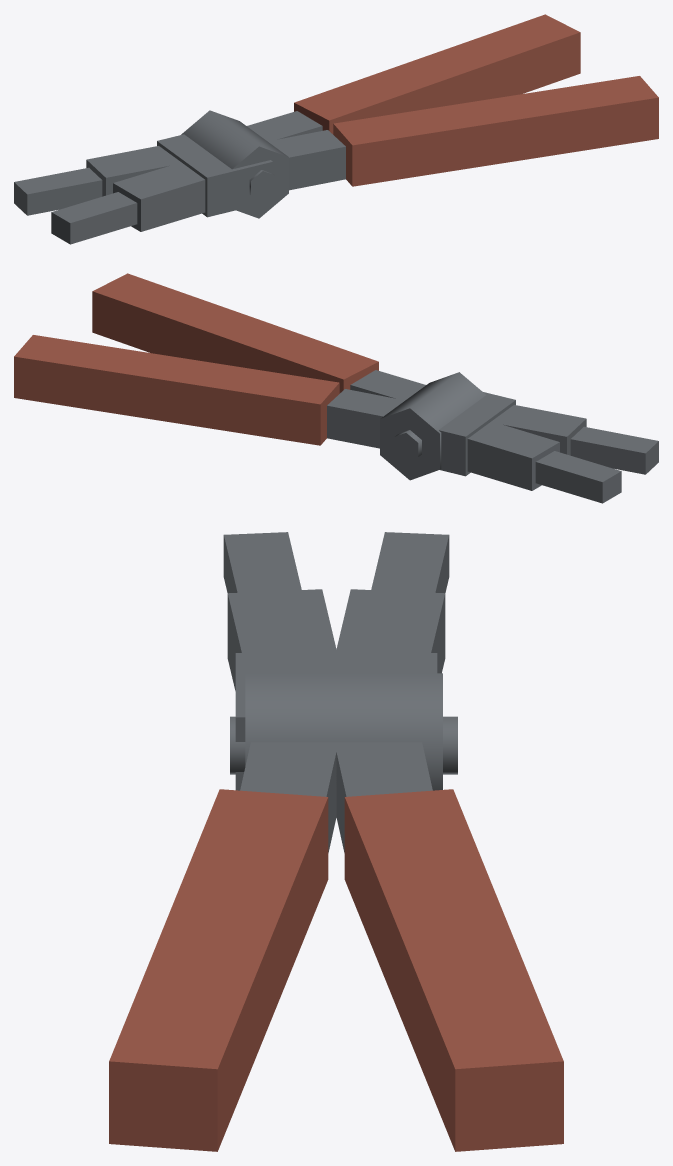
Rendered from LOC_Kim.glb.
3 views of the same model, one above another, from view 1: azimuth 30°, elevation 25°; view 2: azimuth 150°, elevation 25°; view 3: azimuth 270°, elevation 25° (orthographic). The views are drawn at different scales.
Visible parts, largest first — view 1: Kim_ChuoiA, Kim_ChuoiB, Kim_Chot, Kim_CangA, Kim_TangA, Kim_VaiA, Kim_MuiA, Kim_MuiB, Kim_CangB, Kim_TangB, Kim_VaiB, Kim_DinhTan; view 2: Kim_ChuoiB, Kim_ChuoiA, Kim_Chot, Kim_CangB, Kim_MuiB, Kim_MuiA, Kim_TangB, Kim_CangA, Kim_VaiB, Kim_TangA, Kim_VaiA, Kim_DinhTan; view 3: Kim_ChuoiA, Kim_ChuoiB, Kim_Chot, Kim_CangA, Kim_CangB, Kim_TangA, Kim_TangB, Kim_MuiA, Kim_MuiB, Kim_VaiA, Kim_VaiB, Kim_DinhTan.
Part boxes in pixels (box(x1,y1,x2,y2)): Kim_ChuoiA: box(333, 76, 658, 186); Kim_ChuoiB: box(294, 14, 580, 134); Kim_Chot: box(181, 110, 288, 218); Kim_CangA: box(113, 162, 205, 231); Kim_TangA: box(269, 130, 345, 190); Kim_VaiA: box(182, 152, 272, 217); Kim_MuiA: box(51, 192, 137, 244); Kim_MuiB: box(14, 167, 102, 215); Kim_CangB: box(86, 146, 181, 196); Kim_TangB: box(247, 111, 322, 141); Kim_VaiB: box(157, 134, 208, 162); Kim_DinhTan: box(249, 170, 274, 199); Kim_ChuoiB: box(14, 335, 339, 445); Kim_ChuoiA: box(92, 273, 378, 393); Kim_Chot: box(380, 372, 485, 480); Kim_CangB: box(467, 422, 559, 490); Kim_MuiB: box(535, 451, 621, 503); Kim_MuiA: box(570, 426, 658, 474); Kim_TangB: box(327, 389, 403, 448); Kim_CangA: box(490, 405, 586, 455); Kim_VaiB: box(439, 411, 490, 476); Kim_TangA: box(350, 370, 425, 400); Kim_VaiA: box(464, 392, 515, 421); Kim_DinhTan: box(394, 430, 421, 461); Kim_ChuoiA: box(109, 789, 328, 1151); Kim_ChuoiB: box(344, 789, 563, 1151); Kim_Chot: box(245, 673, 442, 817); Kim_CangA: box(227, 589, 337, 690); Kim_CangB: box(336, 589, 445, 673); Kim_TangA: box(240, 742, 338, 852); Kim_TangB: box(335, 742, 432, 852); Kim_MuiA: box(223, 532, 301, 593); Kim_MuiB: box(371, 532, 449, 593); Kim_VaiA: box(235, 653, 338, 790); Kim_VaiB: box(335, 653, 437, 673); Kim_DinhTan: box(230, 716, 457, 774).
Bounding box in the file's own units: 0.1735 × 0.021 × 0.0598.
